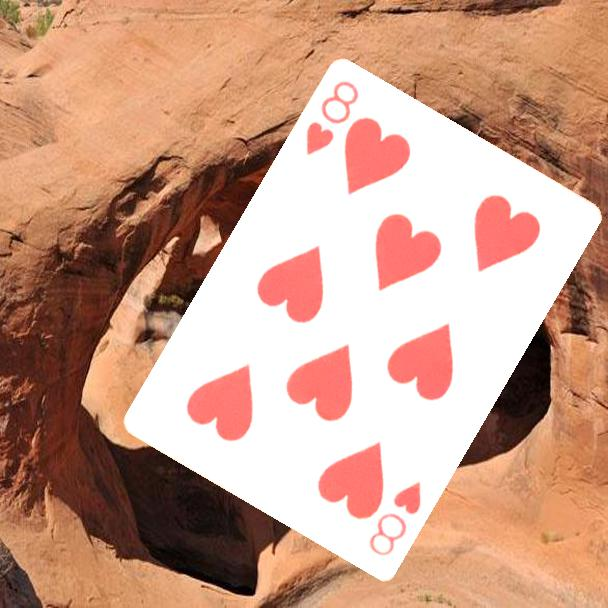h08: (365, 478, 425, 560), (302, 77, 362, 159)
